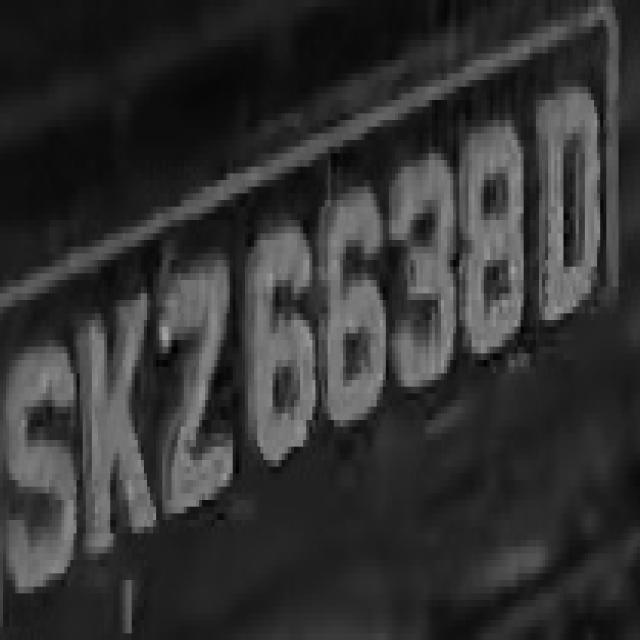3: (392, 126, 462, 426)
6: (309, 160, 389, 440), (236, 200, 315, 473)
8: (462, 94, 533, 394)
D: (527, 40, 609, 340)
K: (70, 260, 160, 560)
S: (9, 313, 86, 620)
Z: (147, 227, 242, 533)
